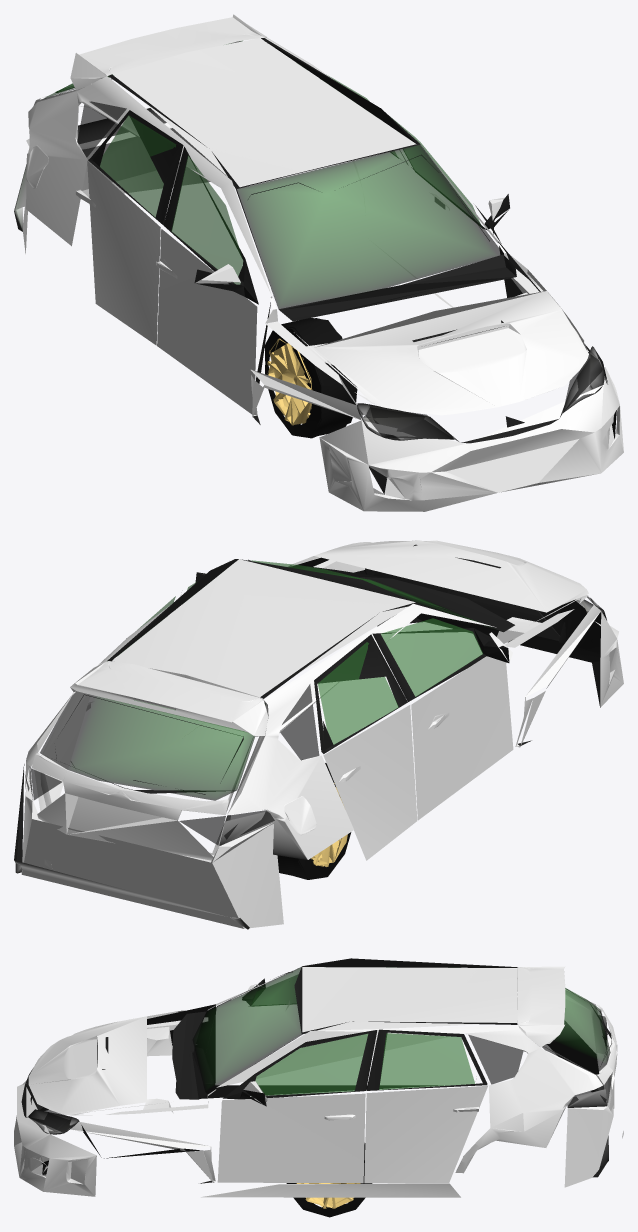
The model's file is impreza_2.glb.
The picture shows the model from 3 angles, top to bottom: view 1: azimuth 30°, elevation 25°; view 2: azimuth 150°, elevation 25°; view 3: azimuth 270°, elevation 25°; orthographic projection. The views are drawn at different scales.
Parts seen in each view (by area): view 1: paint, glass, misc, wheel_R, wheel_L; view 2: paint, glass, misc, wheel_R; view 3: paint, glass, misc, wheel_L.
Part boxes in pixels (x1,y1,x2,y2): paint: [23, 14, 623, 511]; glass: [43, 40, 602, 439]; misc: [14, 38, 616, 494]; wheel_R: [265, 318, 355, 437]; wheel_L: [264, 318, 357, 438]; paint: [21, 540, 623, 928]; glass: [25, 560, 602, 845]; misc: [14, 544, 606, 929]; wheel_R: [277, 763, 351, 879]; paint: [14, 966, 623, 1197]; glass: [29, 967, 612, 1132]; misc: [21, 958, 611, 1183]; wheel_L: [287, 1143, 371, 1217].
Bounding box in the file's own units: 1.99 × 1.76 × 4.39.
